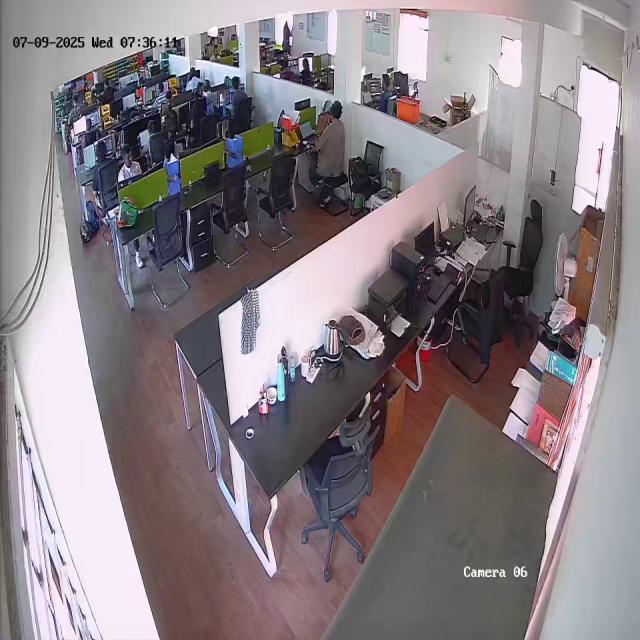person: (313, 98, 348, 178)
